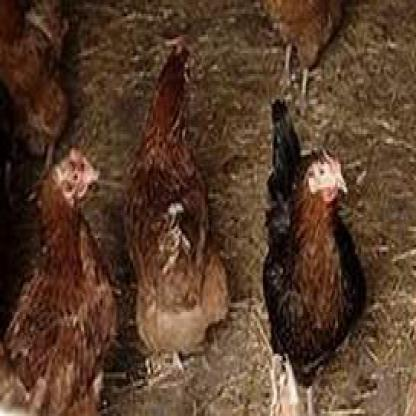chicken: (0, 145, 126, 414), (128, 44, 230, 367), (263, 97, 364, 414)
